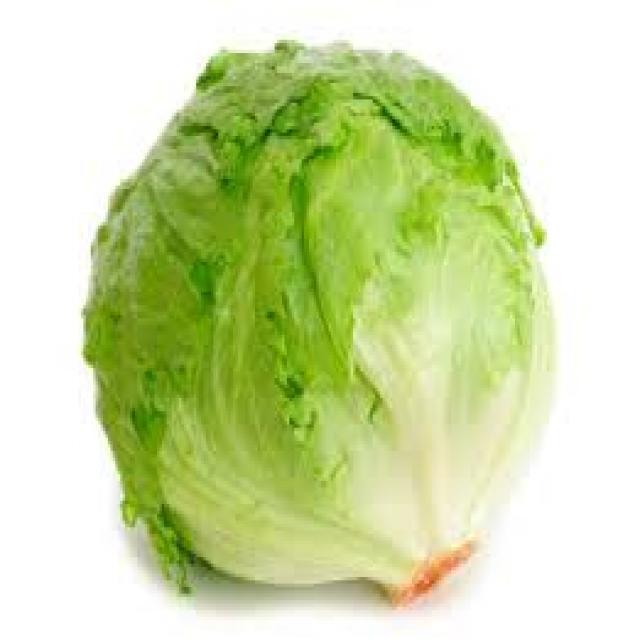Lettuce: (83, 36, 551, 607)
